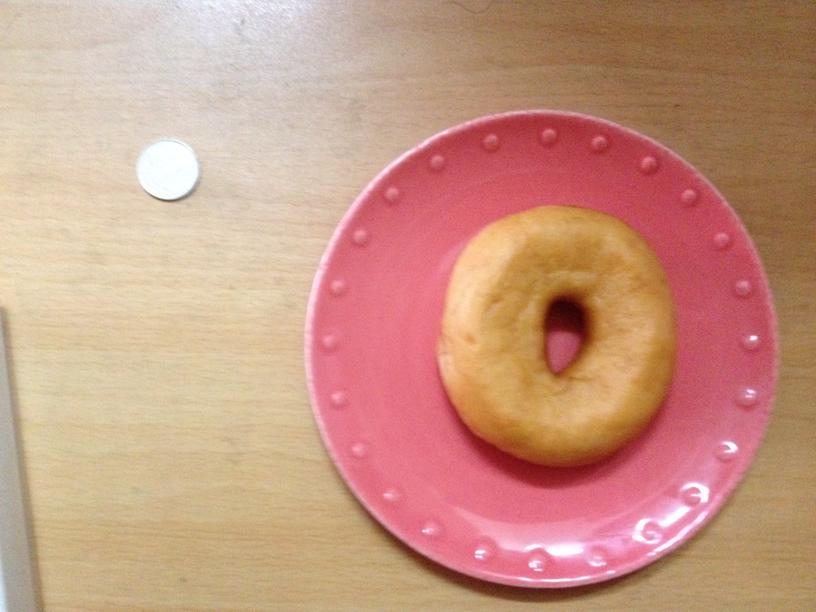coin: (136, 134, 199, 200)
doughnut: (445, 205, 673, 466)
